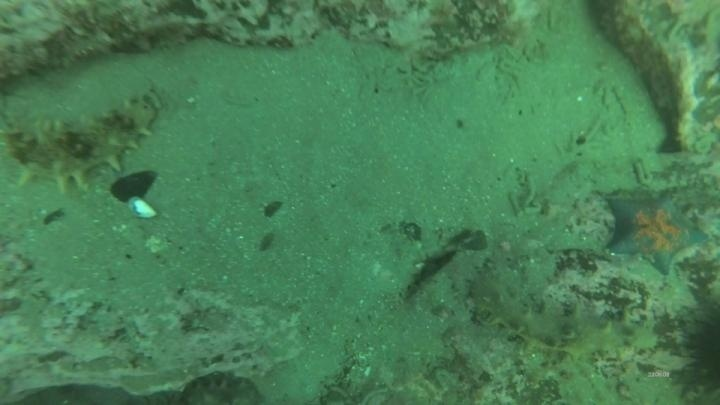echinus: (669, 299, 720, 403)
holothurian: (469, 273, 662, 367), (3, 88, 164, 194)
starfish: (602, 188, 709, 278)
